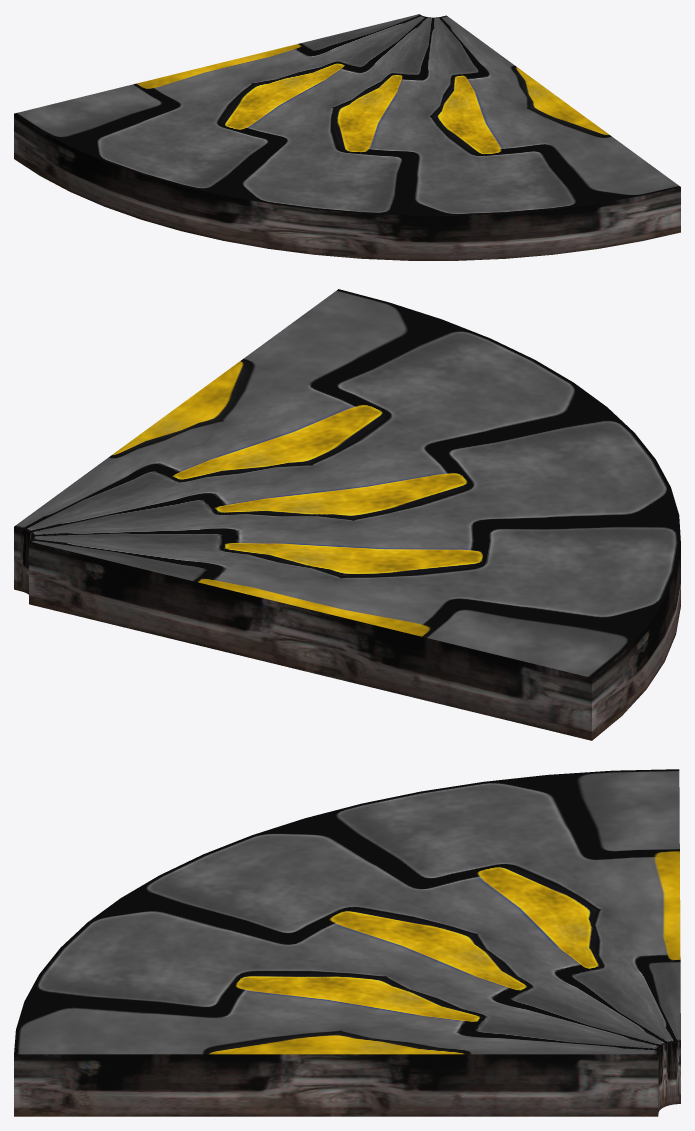
Rendered from belt-L.fbx.
The picture shows the model from 3 angles, top to bottom: view 1: azimuth 30°, elevation 25°; view 2: azimuth 150°, elevation 25°; view 3: azimuth 270°, elevation 25°; orthographic projection. The views are drawn at different scales.
Parts seen in each view (by area): view 1: Cube; view 2: Cube; view 3: Cube.
Boxes of the visible parts, x1=… form: Cube: x1=14, y1=14, x2=680, y2=260; Cube: x1=14, y1=289, x2=680, y2=740; Cube: x1=14, y1=769, x2=680, y2=1116.
Size of the model in its own units: 196 by 20 by 194.
Materials: 2 (2 with a texture image).
